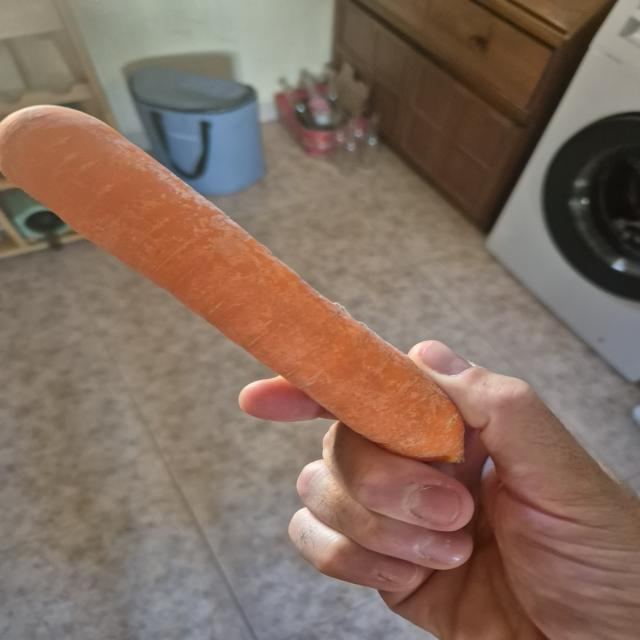zanahoria: (0, 102, 465, 466)
